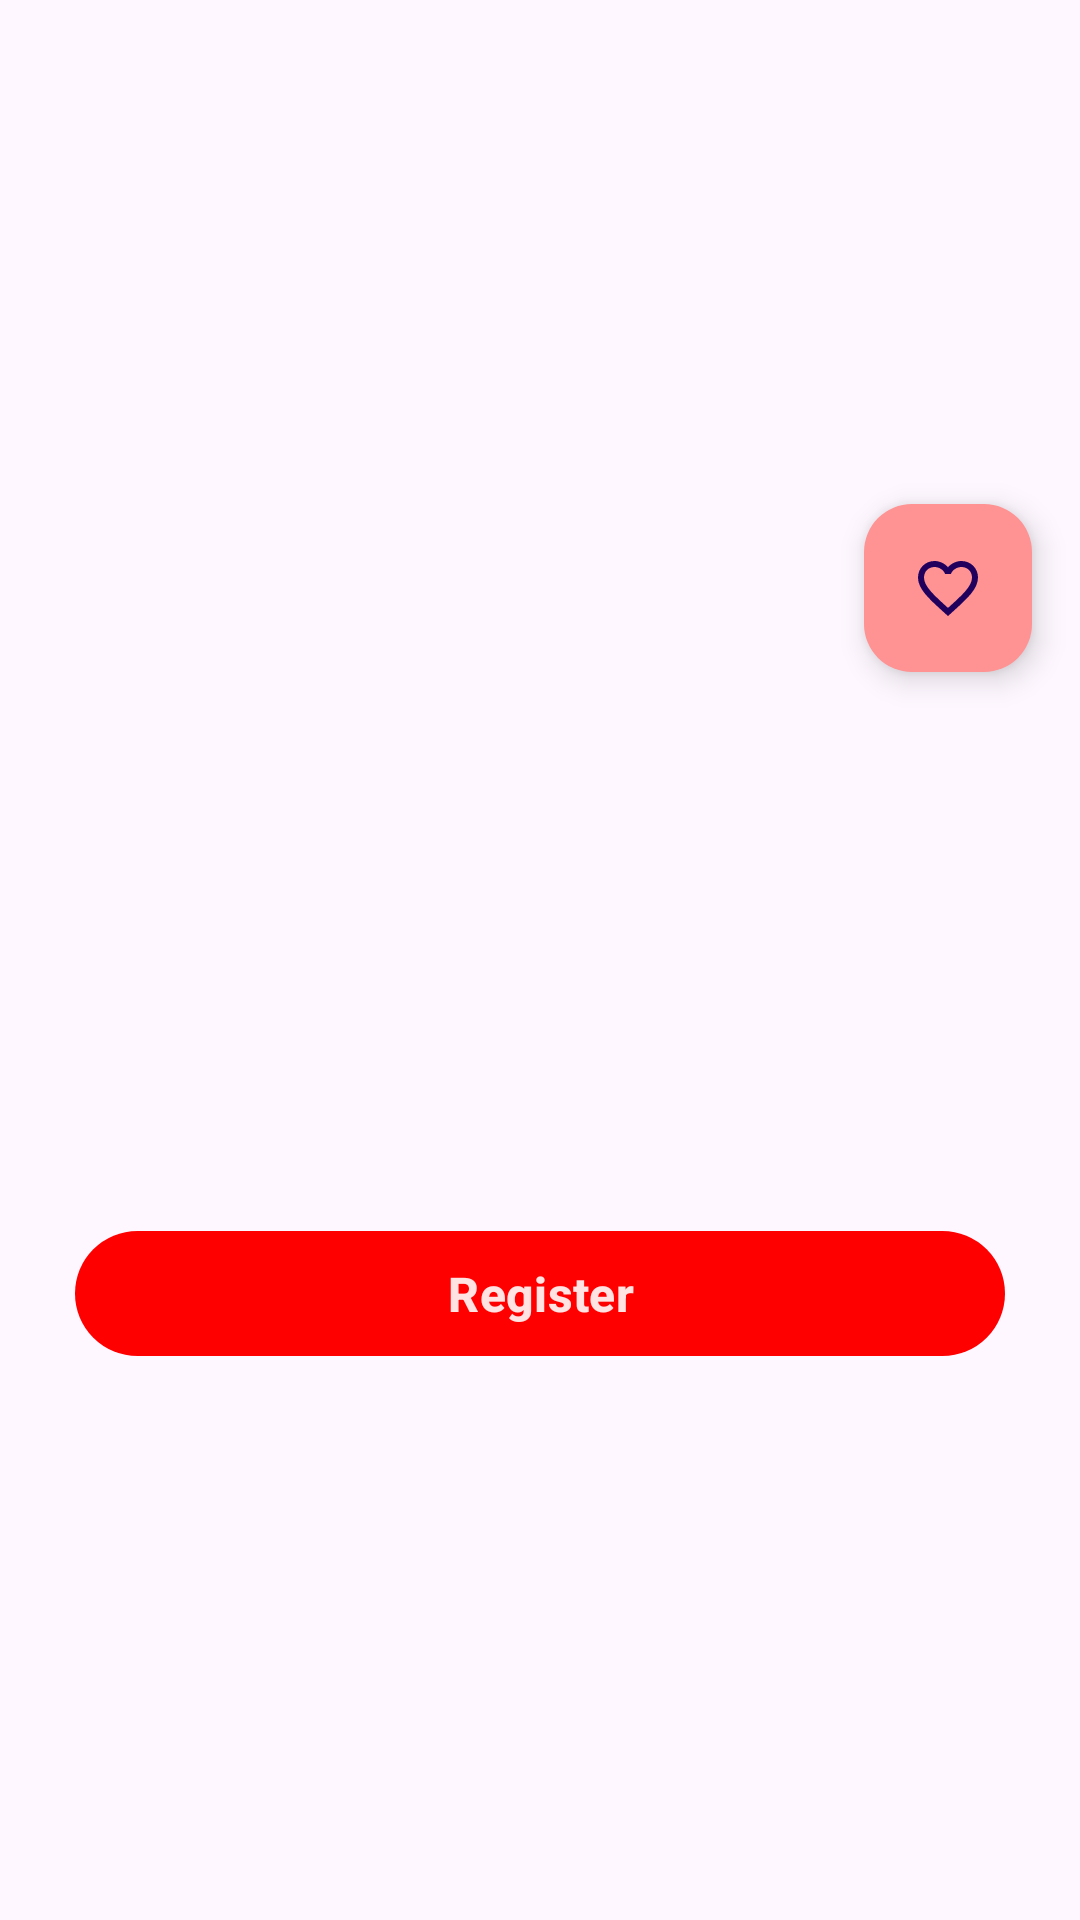

Icons on this 1080 x 1920 Android screen, each with the point to tap as point (x, y):
Favorite: point (948, 588)
